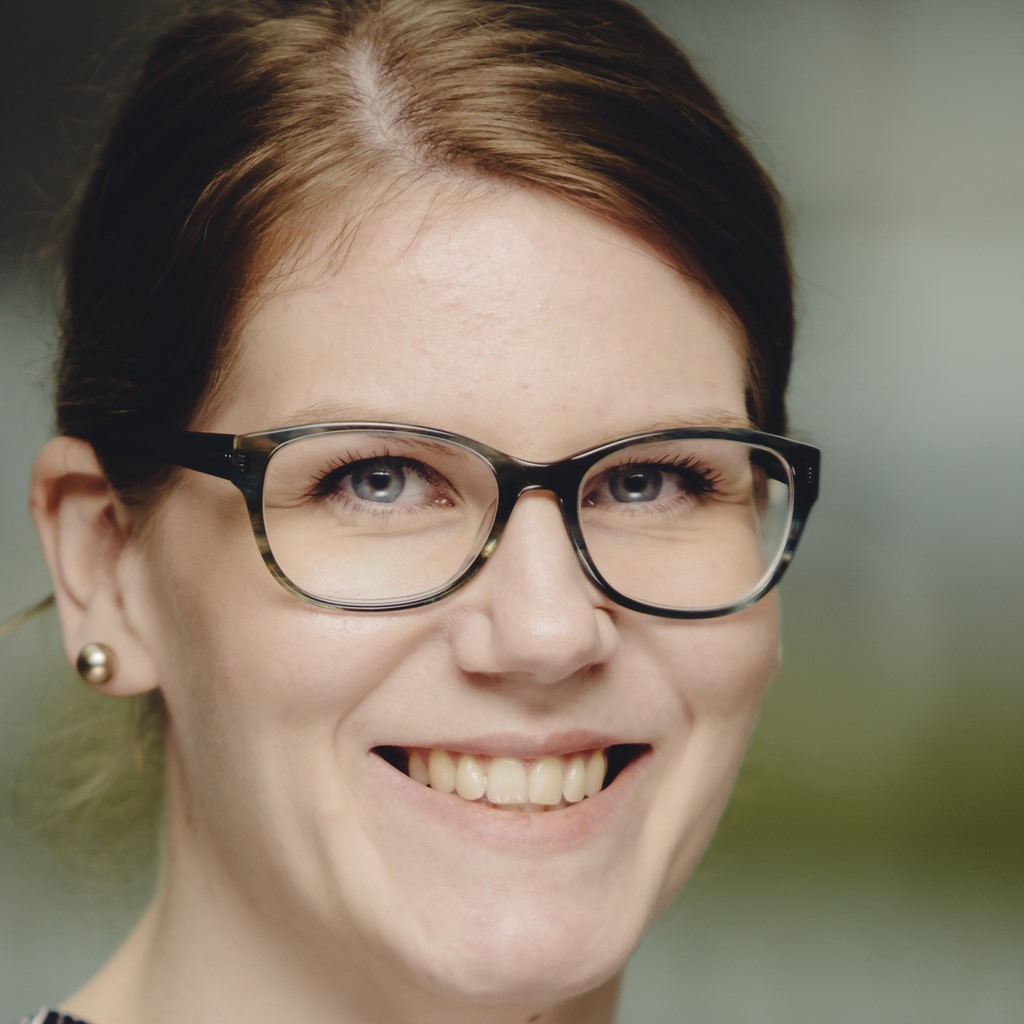sin_mascara: (117, 142, 794, 1013)
